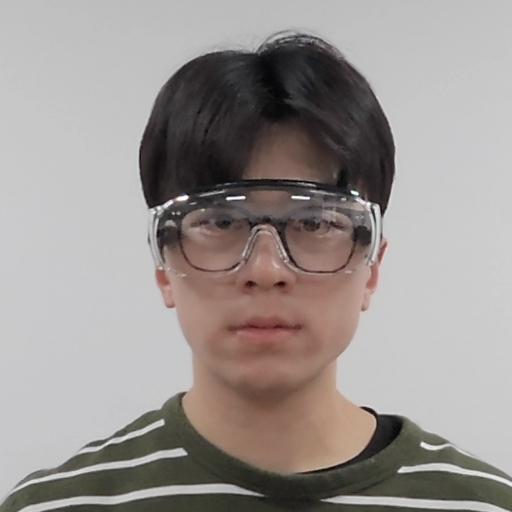glasses: (140, 47, 404, 382)
